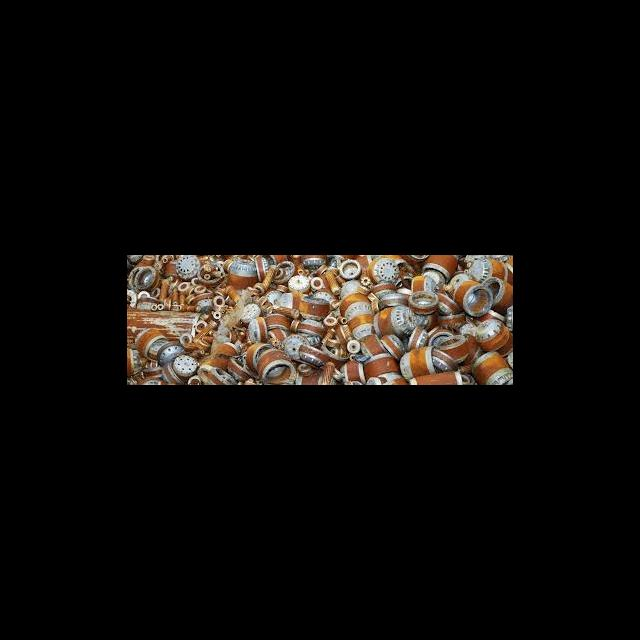metal: (334, 285, 376, 347), (392, 341, 449, 381), (446, 275, 496, 320), (247, 343, 299, 384), (221, 255, 265, 303), (372, 303, 424, 340), (474, 316, 512, 359), (464, 348, 512, 382), (294, 335, 335, 370), (362, 255, 402, 288), (430, 330, 471, 362), (295, 291, 336, 322), (353, 326, 389, 361), (132, 323, 166, 360), (360, 348, 399, 379), (404, 285, 441, 317), (166, 349, 203, 380), (281, 266, 315, 298), (129, 263, 164, 294), (334, 356, 369, 384), (154, 340, 187, 368), (331, 255, 366, 281), (244, 313, 271, 341)
